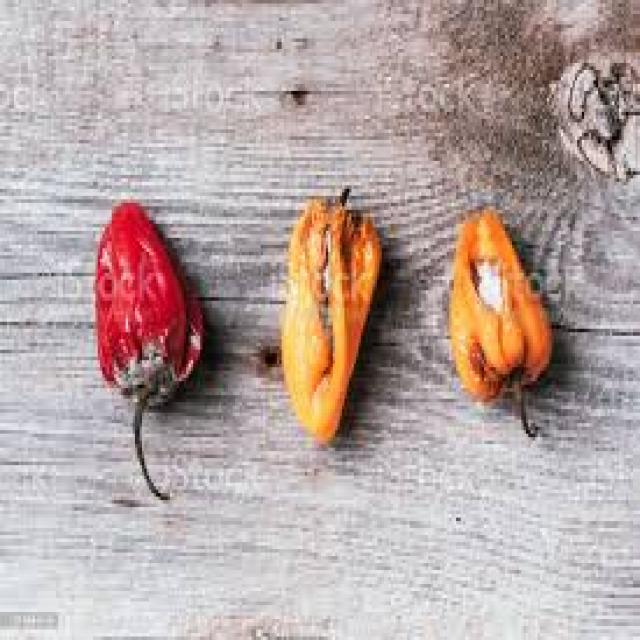organic waste: (91, 196, 202, 500), (280, 186, 380, 444), (447, 206, 549, 434)
